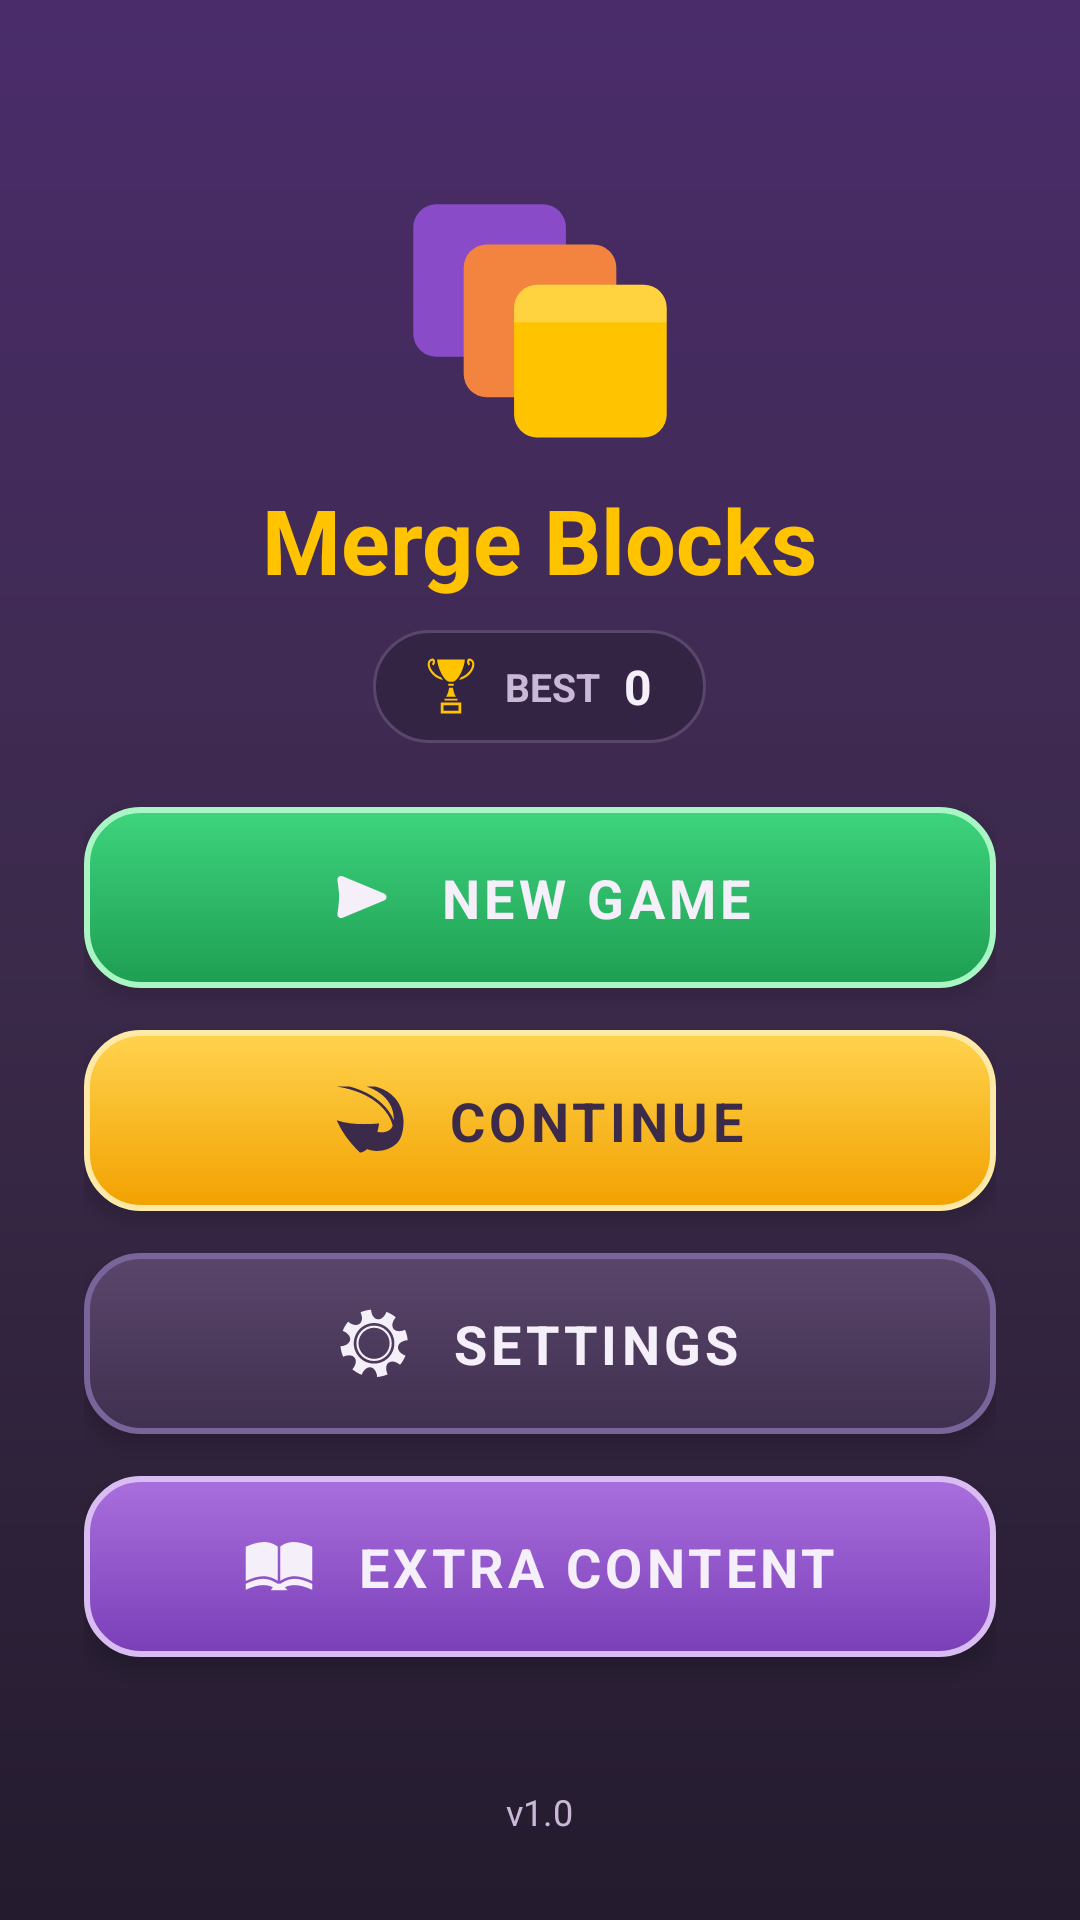

Screen size 1080 x 1920. Icon name, then its center in pixels as [x,y]:
book: [279,1566]
cog: [374,1343]
play: [362,897]
trophy: [451,686]
undo: [370,1120]
